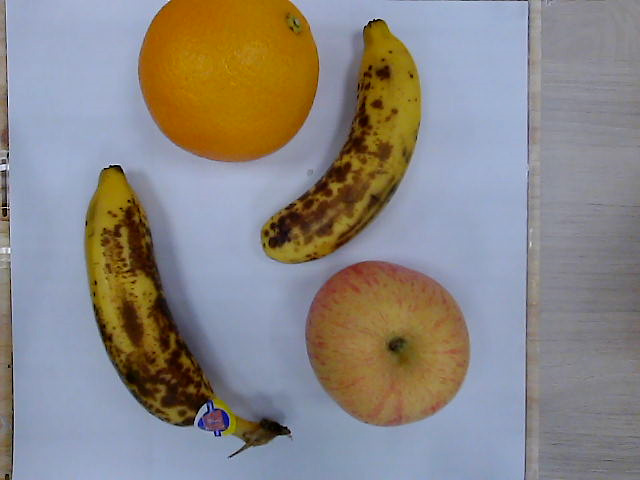fresh_apple: (306, 263, 473, 427)
fresh_orange: (140, 1, 320, 163)
rotten_banana: (86, 164, 294, 449), (261, 17, 422, 263)
